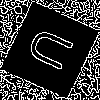U: (25, 25, 84, 77)
